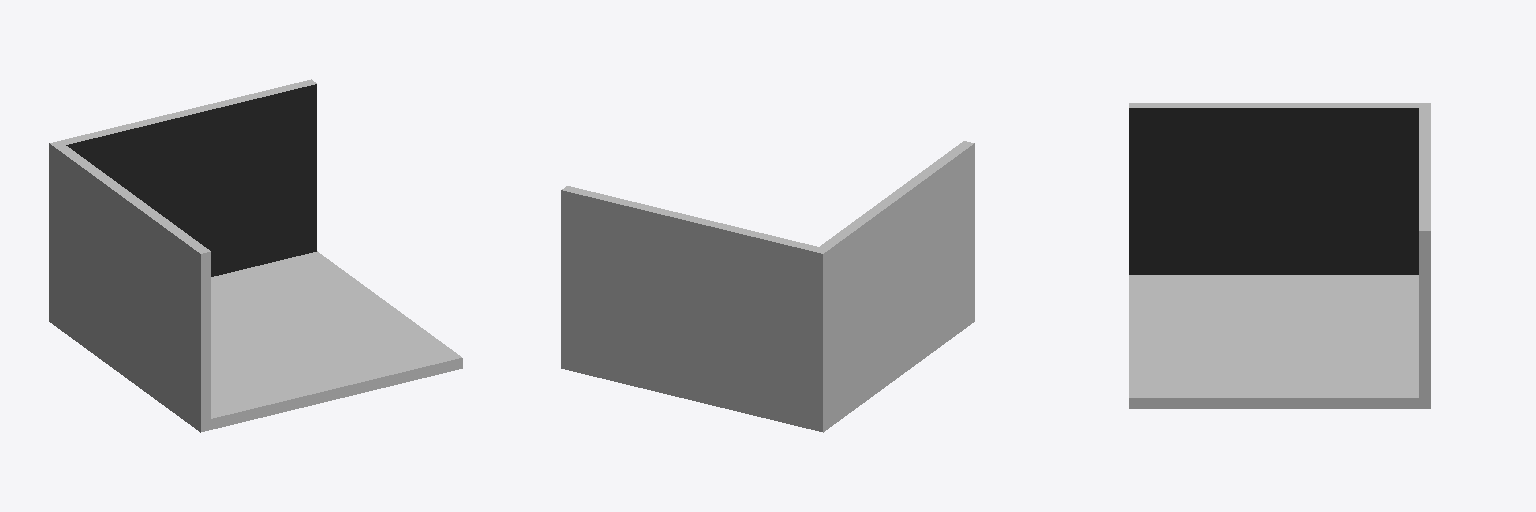
The model's file is RoomBackground.obj.
The picture shows the model from 3 angles: view 1: azimuth 30°, elevation 25°; view 2: azimuth 150°, elevation 25°; view 3: azimuth 270°, elevation 25°; orthographic projection.
Parts seen in each view (by area): view 1: Cube; view 2: Cube; view 3: Cube.
Boxes of the visible parts, x1,y1,x2,y2 form: Cube: [49, 79, 462, 432]; Cube: [561, 141, 974, 432]; Cube: [1129, 103, 1430, 408].
Bounding box in the file's own units: 8.66 × 5.64 × 8.66.